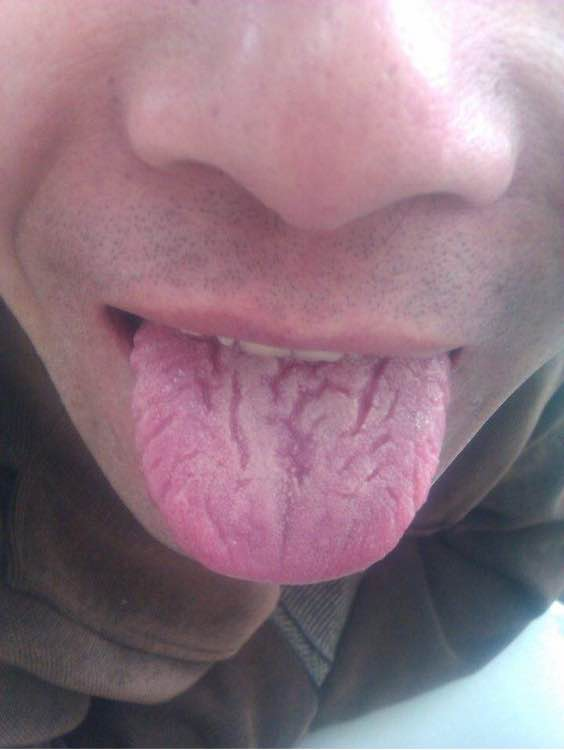huangtaishe: (131, 318, 451, 584)
liewenshe: (193, 334, 396, 480)
zishe: (131, 318, 451, 584)
